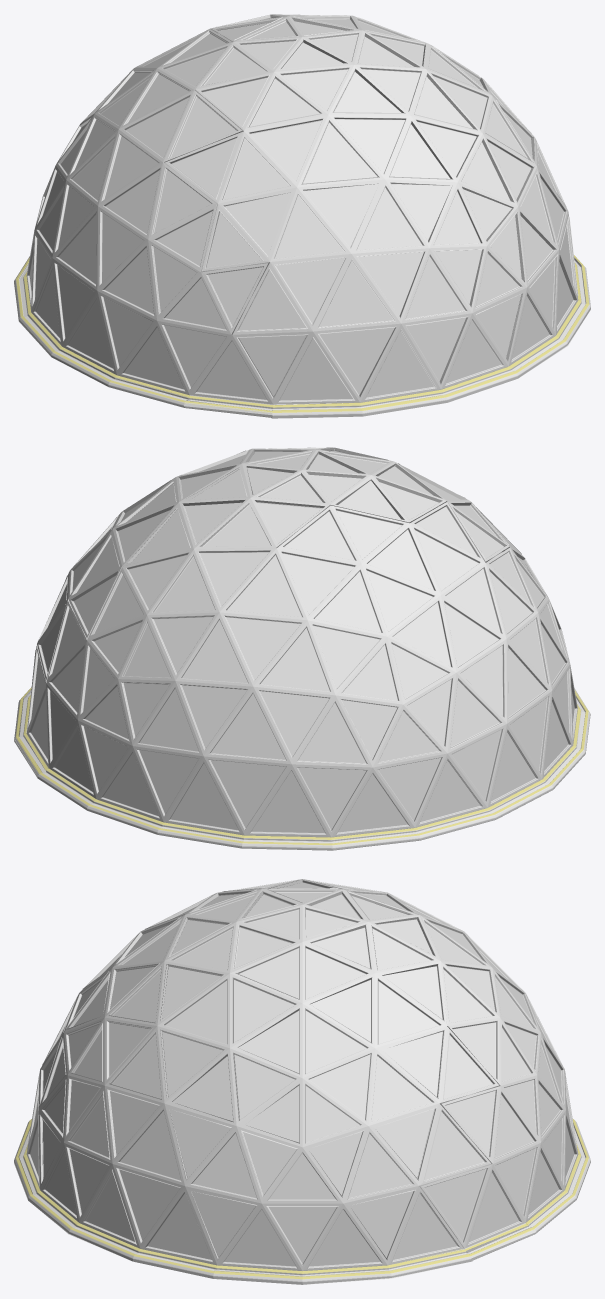
File: Dome.fbx
3 renders of one model, top to bottom at view 1: azimuth 30°, elevation 25°; view 2: azimuth 150°, elevation 25°; view 3: azimuth 270°, elevation 25°, orthographic.
Parts seen in each view (by area): view 1: Icosphere.001; view 2: Icosphere.001; view 3: Icosphere.001.
Part boxes in pixels (x1,y1,x2,y2): Icosphere.001: (14,14,590,418); Icosphere.001: (14,447,590,850); Icosphere.001: (14,879,590,1284).
Size of the model in its own units: 413 by 204 by 413.
